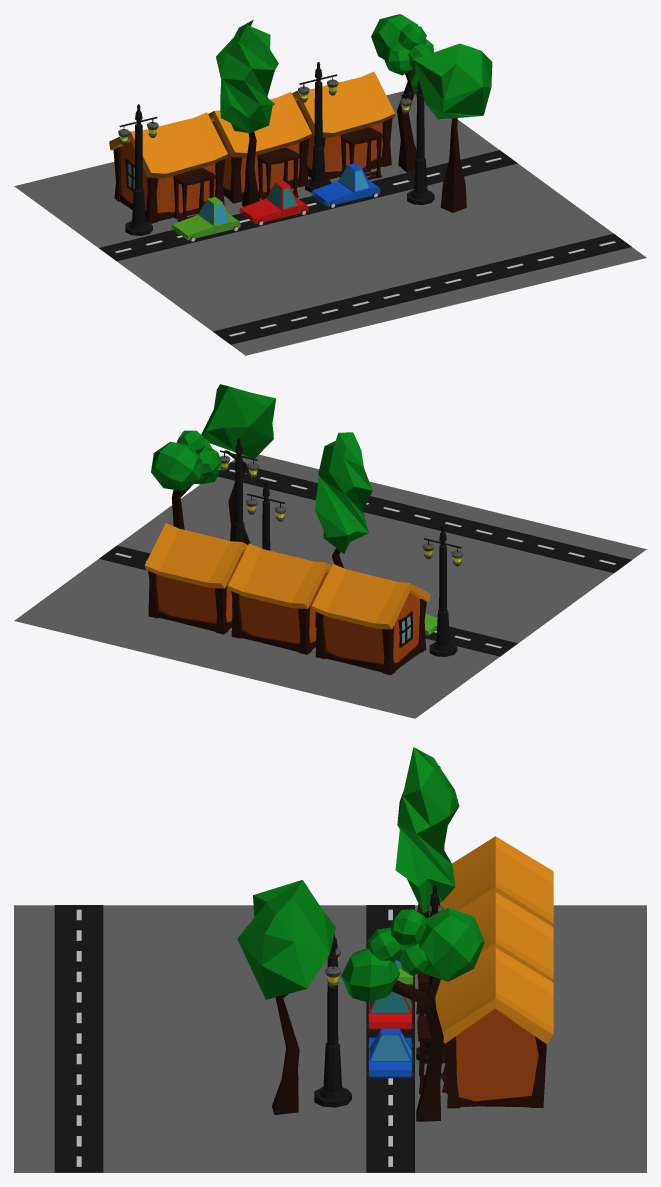
File: whole scene 2.fbx
3 views of the same model, one above another, from view 1: azimuth 30°, elevation 25°; view 2: azimuth 150°, elevation 25°; view 3: azimuth 270°, elevation 25° (orthographic). The views are drawn at different scales.
Visible parts, largest first — view 1: Box003, house2, house 3, house, tree normal, tree tall, tree 2 branch, street lamp, street lamp3, car red, car blue, car green (+12 smaller); view 2: Box003, house2, house, house 3, tree tall, tree normal, tree 2 branch, street lamp, street lamp2, road8, road009, road012 (+6 smaller); view 3: Box003, house 3, tree 2 branch, tree normal, tree tall, house2, house, street lamp2, car blue, road009, road8, road010 (+9 smaller).
Part boxes in pixels (x1,y1,x2,y2): Box003: (14, 91, 646, 355); house2: (109, 112, 227, 223); house 3: (292, 71, 395, 179); house: (208, 92, 311, 203); tree normal: (413, 43, 492, 212); tree tall: (216, 19, 278, 206); tree 2 branch: (371, 14, 433, 172); street lamp: (118, 104, 158, 235); street lamp3: (298, 62, 338, 192); car red: (239, 180, 308, 225); car blue: (311, 163, 380, 207); car green: (171, 197, 240, 241); Box003: (14, 454, 646, 718); house2: (312, 564, 430, 675); house: (228, 543, 331, 654); house 3: (144, 523, 247, 634); tree tall: (315, 432, 372, 567); tree normal: (201, 384, 276, 544); tree 2 branch: (151, 430, 221, 529); street lamp: (422, 525, 463, 656); street lamp2: (220, 437, 259, 542); road8: (552, 544, 631, 572); road009: (367, 499, 446, 527); road012: (491, 529, 569, 557); Box003: (14, 905, 646, 1172); house 3: (417, 947, 553, 1108); tree 2 branch: (341, 907, 484, 1121); tree normal: (237, 880, 335, 1114); tree tall: (395, 747, 459, 1014); house2: (417, 836, 553, 925); house: (417, 892, 553, 1015); street lamp2: (314, 934, 351, 1107); car blue: (367, 1028, 413, 1078); road009: (54, 1028, 103, 1069); road8: (54, 905, 103, 946); road010: (54, 1069, 103, 1110).
Bounding box in the file's own units: 130 × 58.36 × 130.
